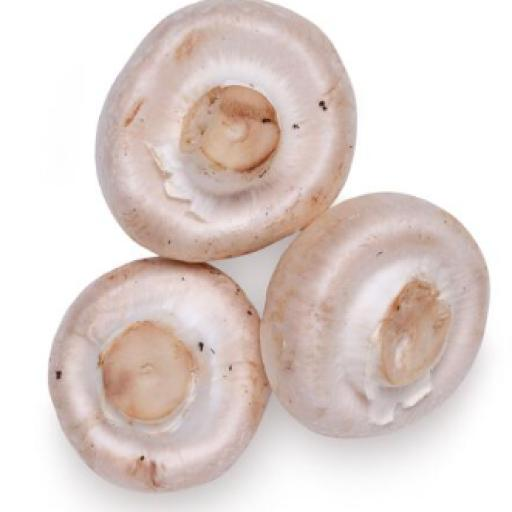Button Mushroom: (95, 0, 362, 267), (260, 187, 504, 441), (45, 253, 267, 495)
